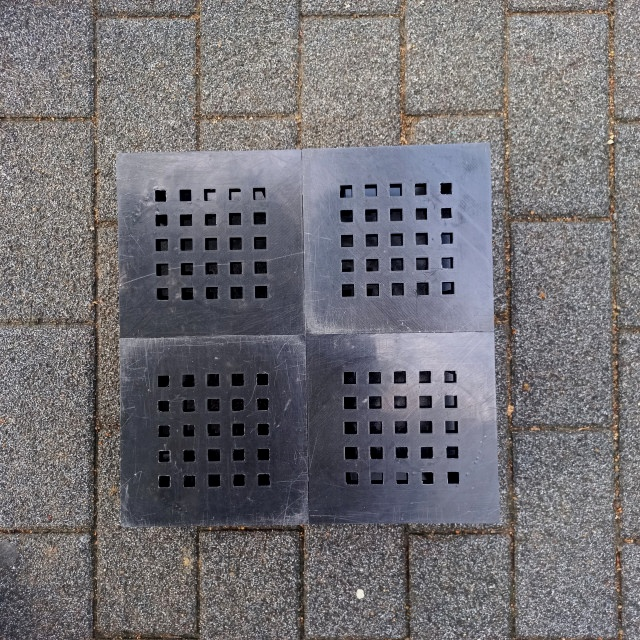pallet: (107, 133, 510, 547)
